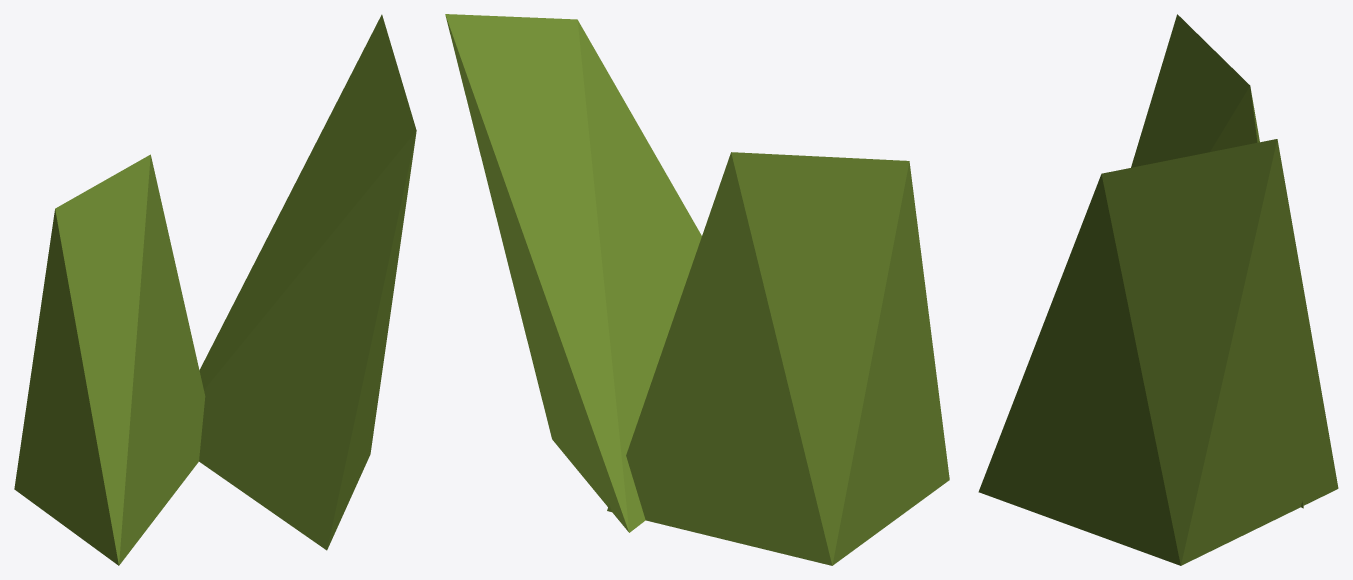
The model's file is grass.fbx.
3 views of the same model, side by side, from view 1: azimuth 30°, elevation 25°; view 2: azimuth 150°, elevation 25°; view 3: azimuth 270°, elevation 25° (orthographic). The views are drawn at different scales.
Parts seen in each view (by area): view 1: Model; view 2: Model; view 3: Model.
Boxes of the visible parts, x1,y1,x2,y2 form: Model: (14, 14, 416, 565); Model: (445, 14, 949, 565); Model: (978, 14, 1338, 565).
Bounding box in the file's own units: 0.3425 × 0.3505 × 0.2502.
